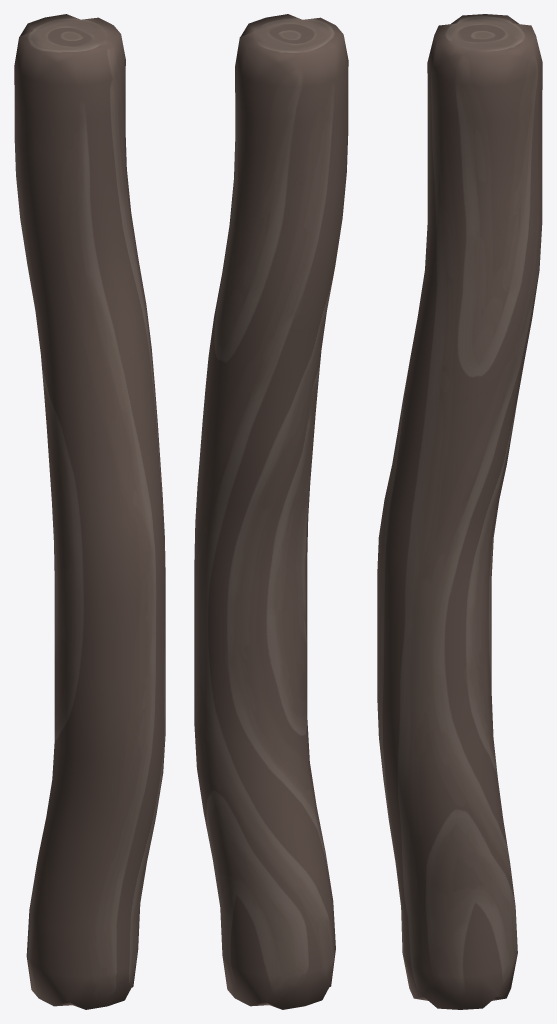
Rendered from MineBeam1.fbx.
The picture shows the model from 3 angles, left to right: view 1: azimuth 30°, elevation 25°; view 2: azimuth 210°, elevation 25°; view 3: azimuth 270°, elevation 25°; orthographic projection.
Visible parts, largest first — view 1: MineBeam1; view 2: MineBeam1; view 3: MineBeam1.
Part boxes in pixels (x1,y1,x2,y2): MineBeam1: (14, 14, 165, 1009); MineBeam1: (194, 14, 348, 1009); MineBeam1: (377, 14, 542, 1009).
Bounding box in the file's own units: 35.04 × 273 × 42.88.
1 material, 1 textured.
